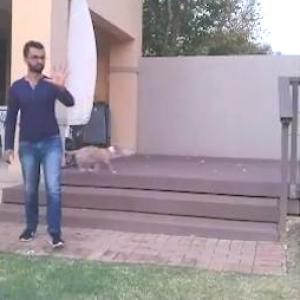follow_hand: (42, 55, 74, 90)
